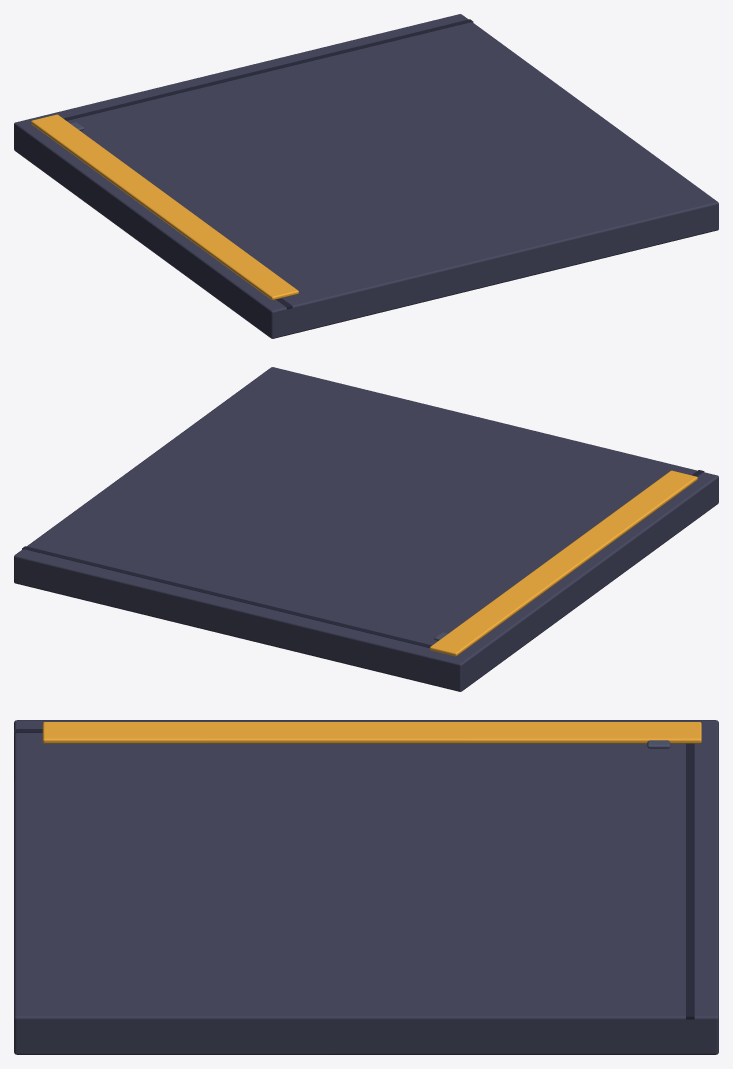
Rendered from floor.plate.WN+hzx.glb.
3 renders of one model, top to bottom at view 1: azimuth 30°, elevation 25°; view 2: azimuth 150°, elevation 25°; view 3: azimuth 270°, elevation 25°, orthographic. The views are drawn at different scales.
Parts seen in each view (by area): view 1: floor.plate.WN+hzx; view 2: floor.plate.WN+hzx; view 3: floor.plate.WN+hzx.
Boxes of the visible parts, left/top/right/bottom form: floor.plate.WN+hzx: left=14, top=14, right=718, bottom=338; floor.plate.WN+hzx: left=14, top=367, right=718, bottom=691; floor.plate.WN+hzx: left=14, top=720, right=718, bottom=1054.
Bounding box in the file's own units: 0.984 × 0.068 × 0.984.
